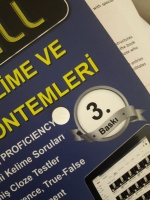Arveles: (51, 106, 71, 126)
